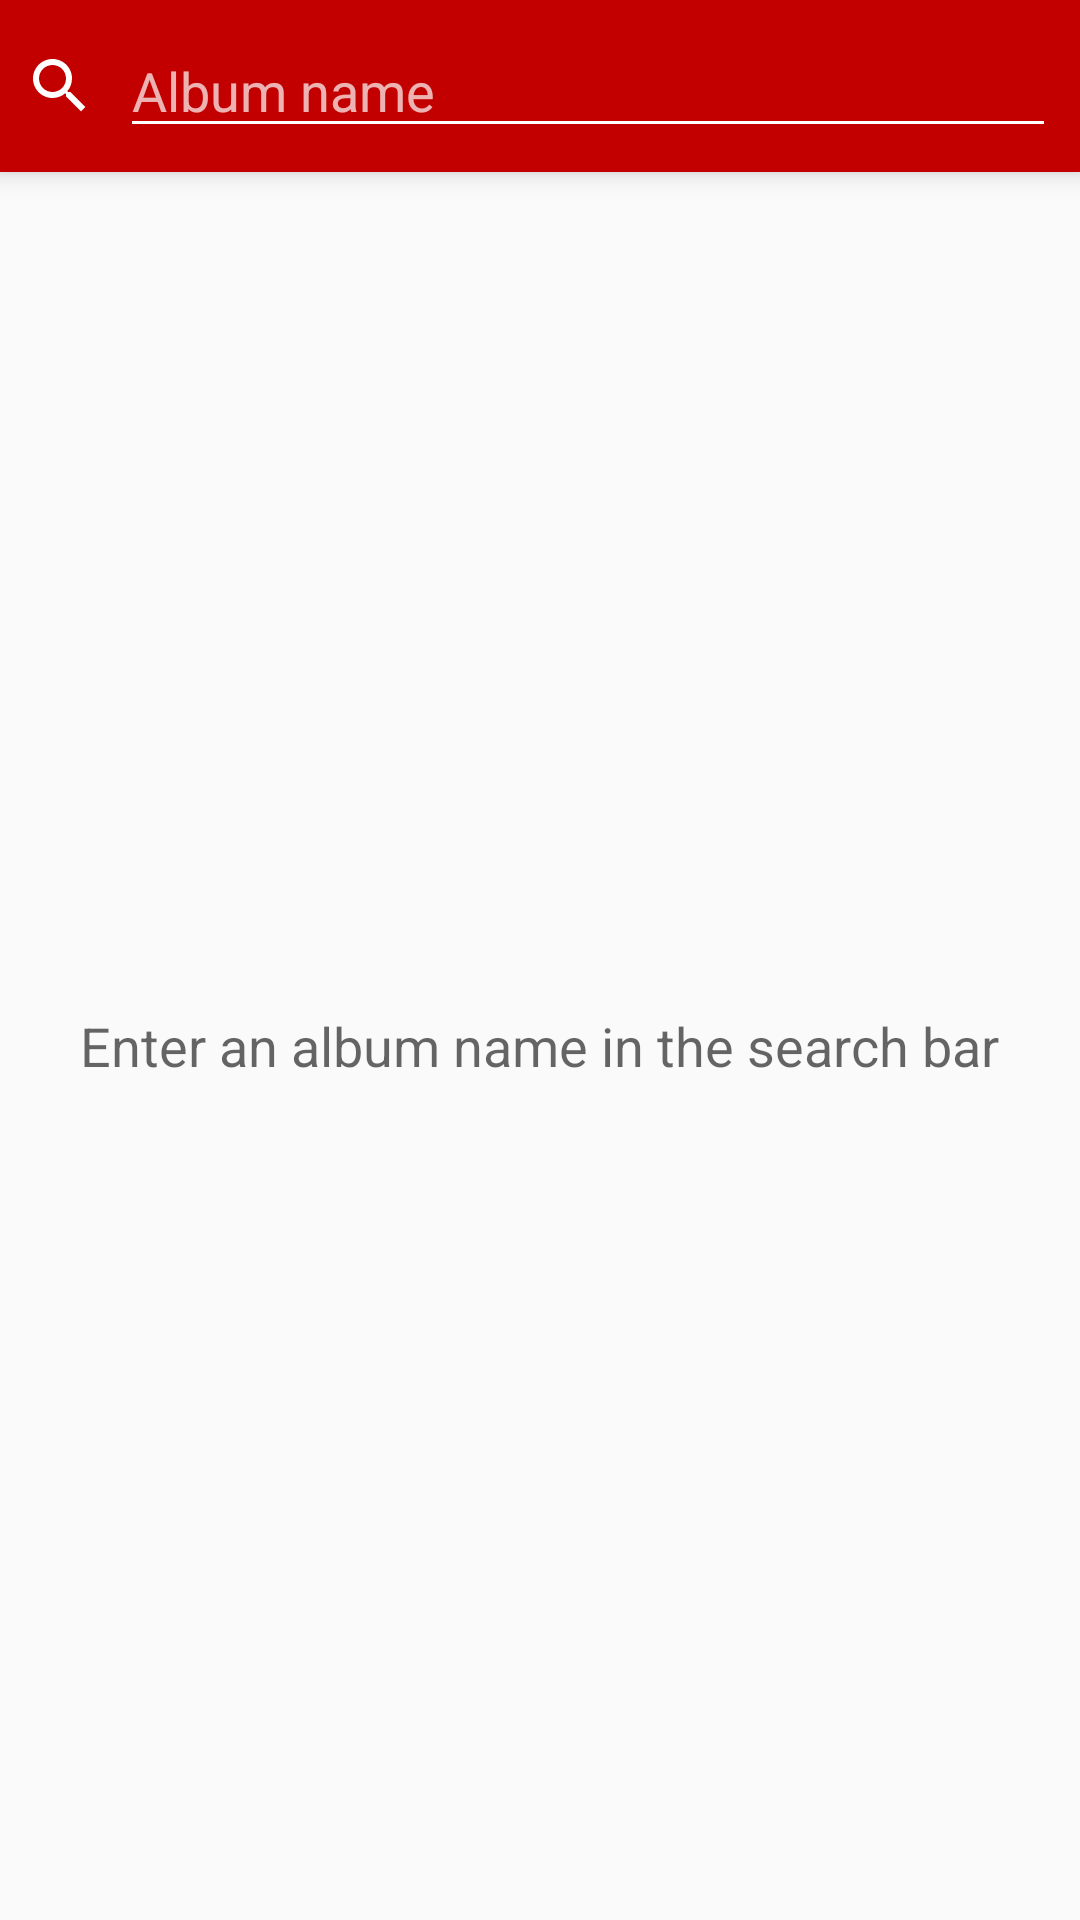

Named icons in this screenshot (1080px x 1920px) and their centers, (x,y):
Search Icon: (59,85)
